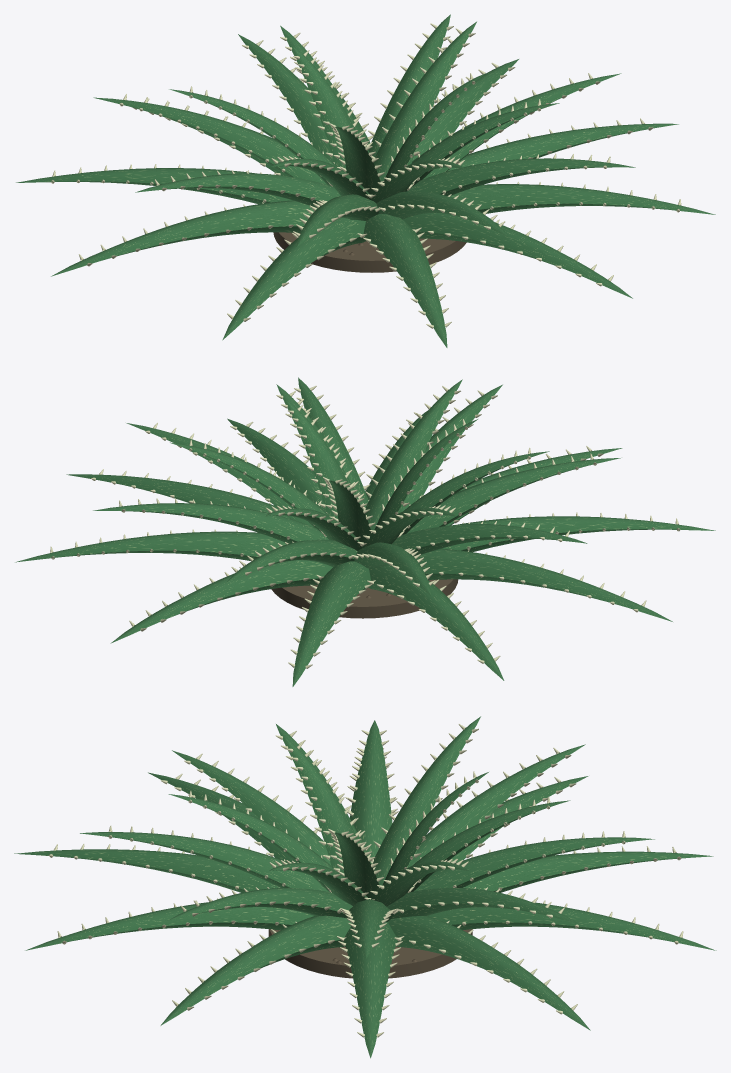
File: aloe-vera.glb
3 views of the same model, one above another, from view 1: azimuth 30°, elevation 25°; view 2: azimuth 150°, elevation 25°; view 3: azimuth 270°, elevation 25° (orthographic). The views are drawn at different scales.
Visible parts, largest first — view 1: aloe-vera; view 2: aloe-vera; view 3: aloe-vera.
Part boxes in pixels (x1,y1,x2,y2): aloe-vera: [16, 14, 715, 347]; aloe-vera: [15, 377, 715, 686]; aloe-vera: [14, 716, 716, 1058].
Bounding box in the file's own units: 0.7742 × 0.1897 × 0.7228.
3 materials, 1 textured.
